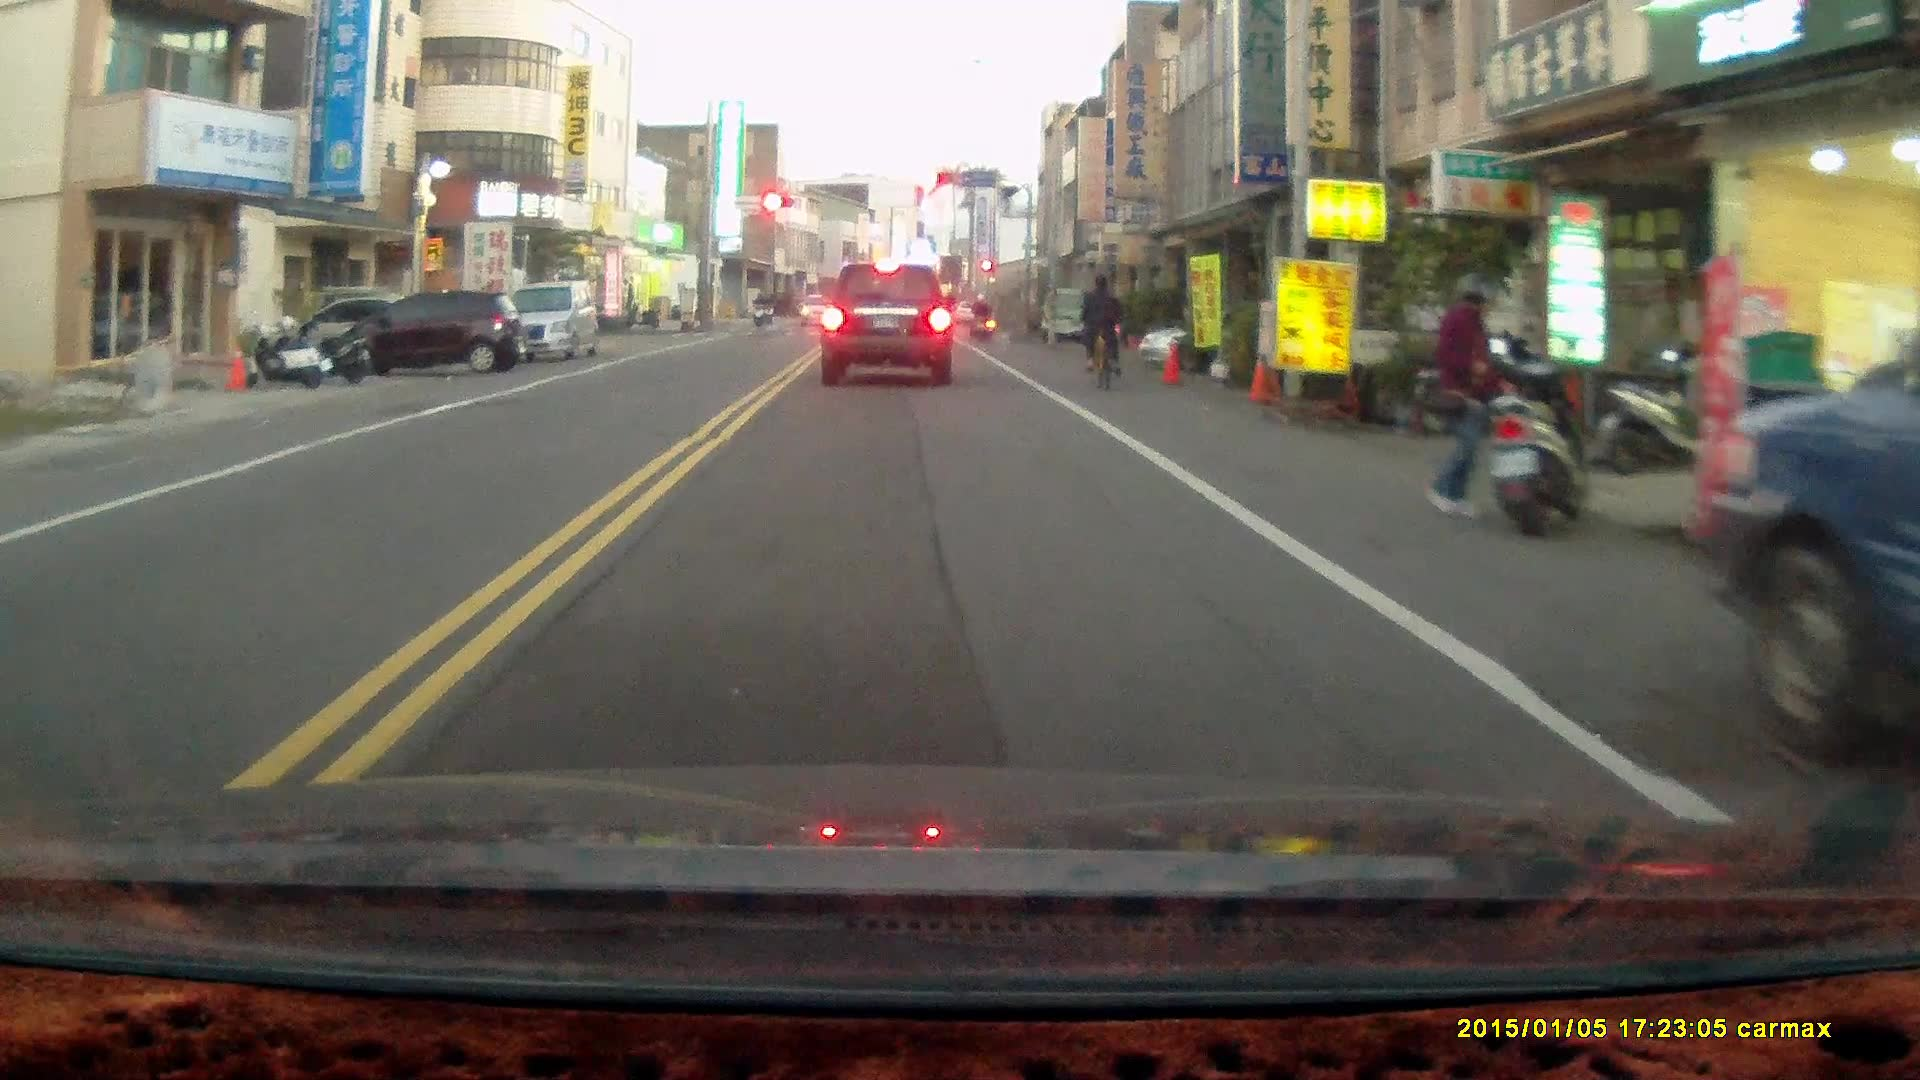pedestrian: (1423, 272, 1511, 518)
rider: (1080, 272, 1127, 392), (969, 291, 993, 343), (749, 288, 770, 327)
vehicle: (1702, 315, 1920, 766), (338, 287, 526, 382), (820, 263, 957, 388), (482, 278, 604, 364)
